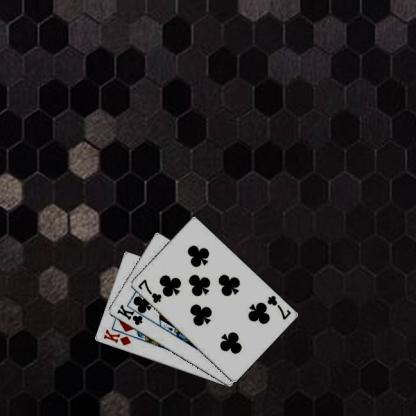7C: (264, 293, 292, 321), (135, 277, 162, 304)
KC: (114, 302, 149, 326)
KD: (101, 326, 132, 346)
